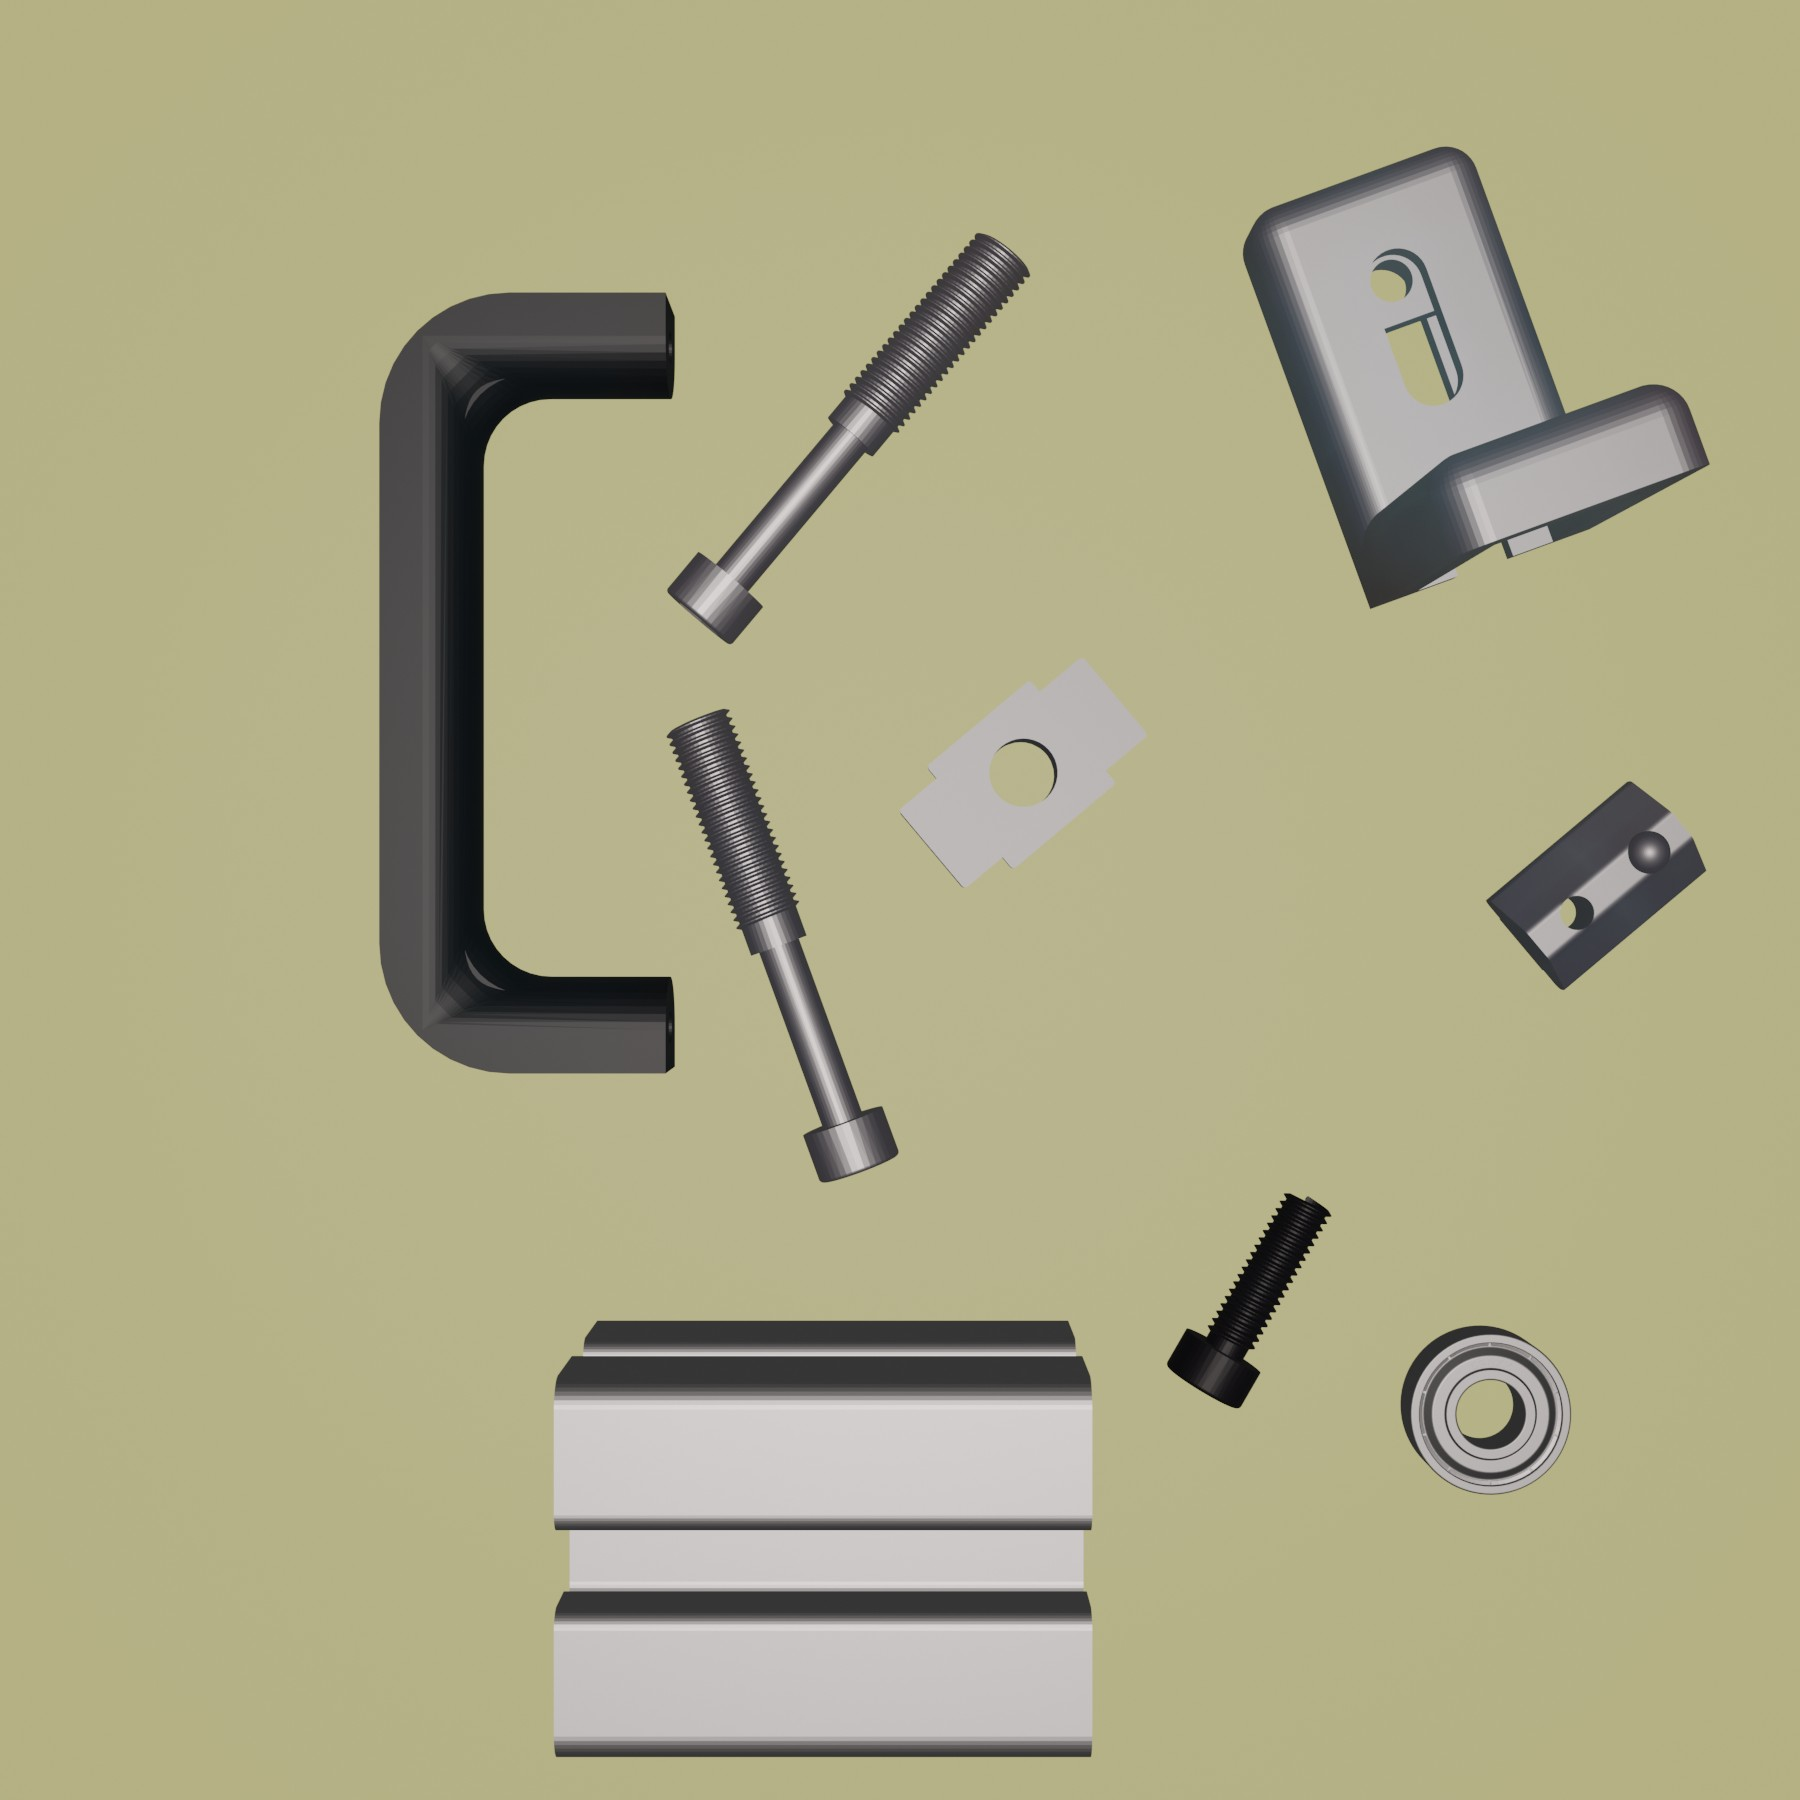Aluminium Extension: (551, 1314, 1098, 1762)
Ball Bearing: (1398, 1322, 1574, 1497)
Multiwinkel: (1238, 142, 1711, 608)
Pull Handle: (373, 288, 679, 1076)
Shoulder Socket Head Cap Screw: (663, 227, 1032, 649), (663, 702, 902, 1185)
Socket Head Cap Screw: (1164, 1187, 1332, 1409)
T Nut Square: (893, 653, 1147, 892)
T Spring Nut: (1482, 776, 1708, 992)
